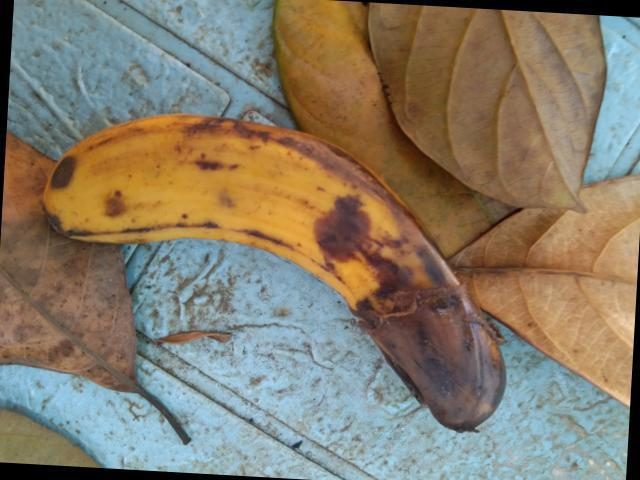rotten: (41, 97, 523, 464)
